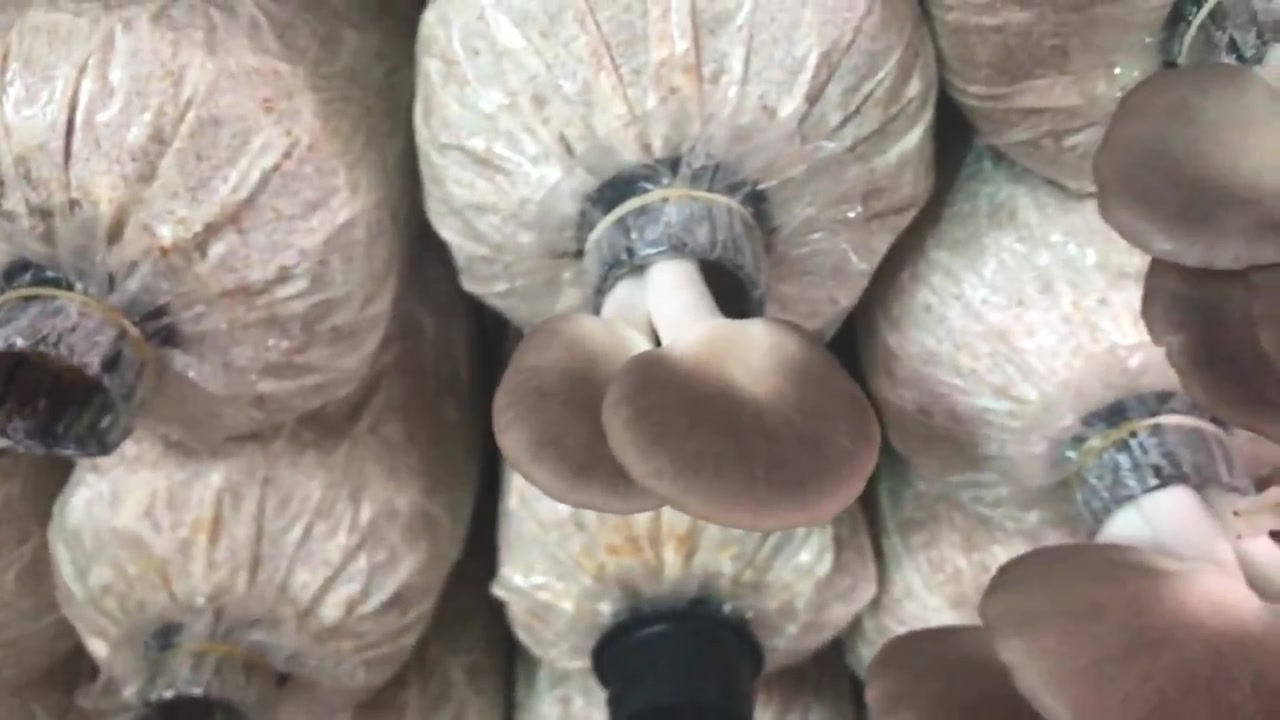nam: (505, 185, 875, 531), (868, 420, 1280, 720)
